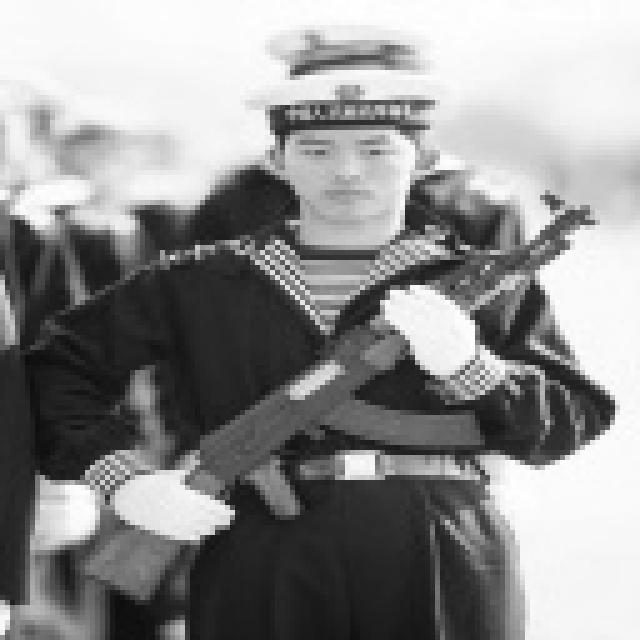Rifle: (64, 175, 639, 603)
